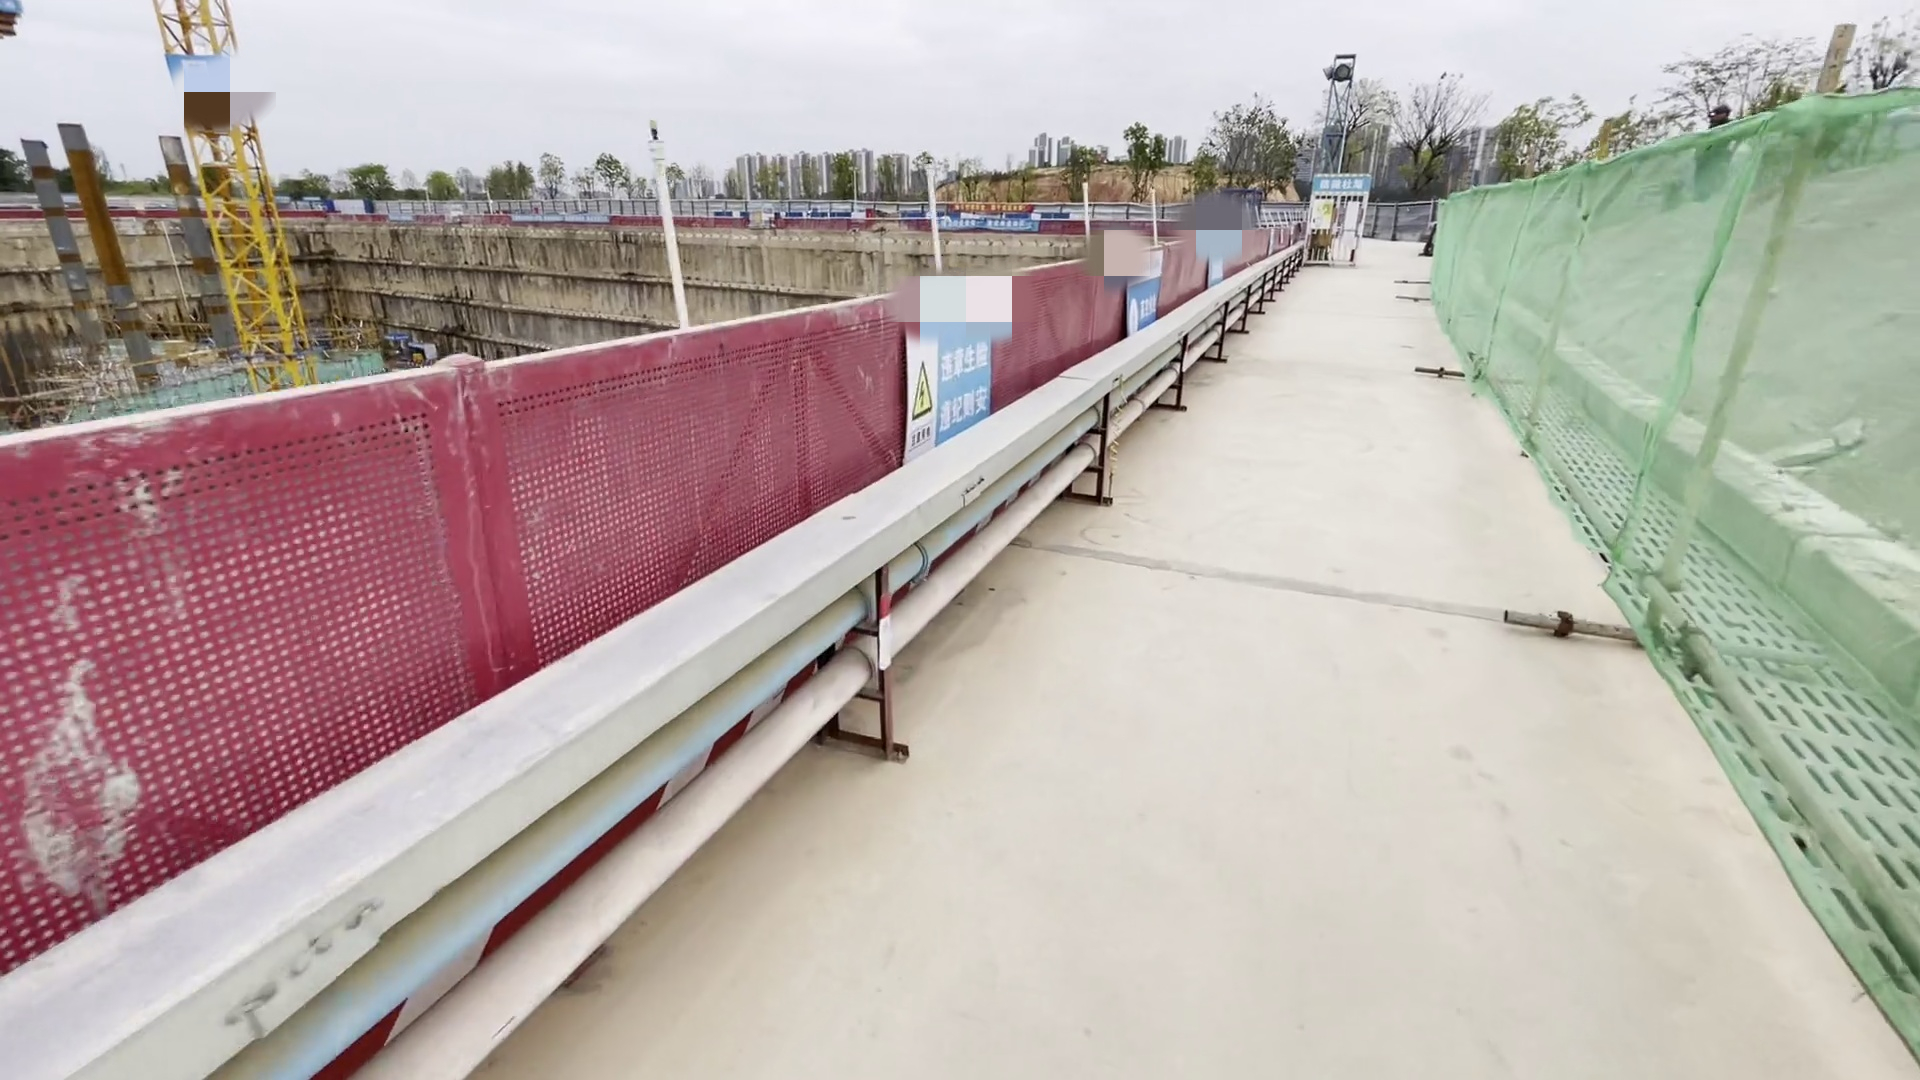fence: (1, 227, 1302, 1002)
slogan: (930, 345, 996, 429), (1315, 164, 1367, 195)
